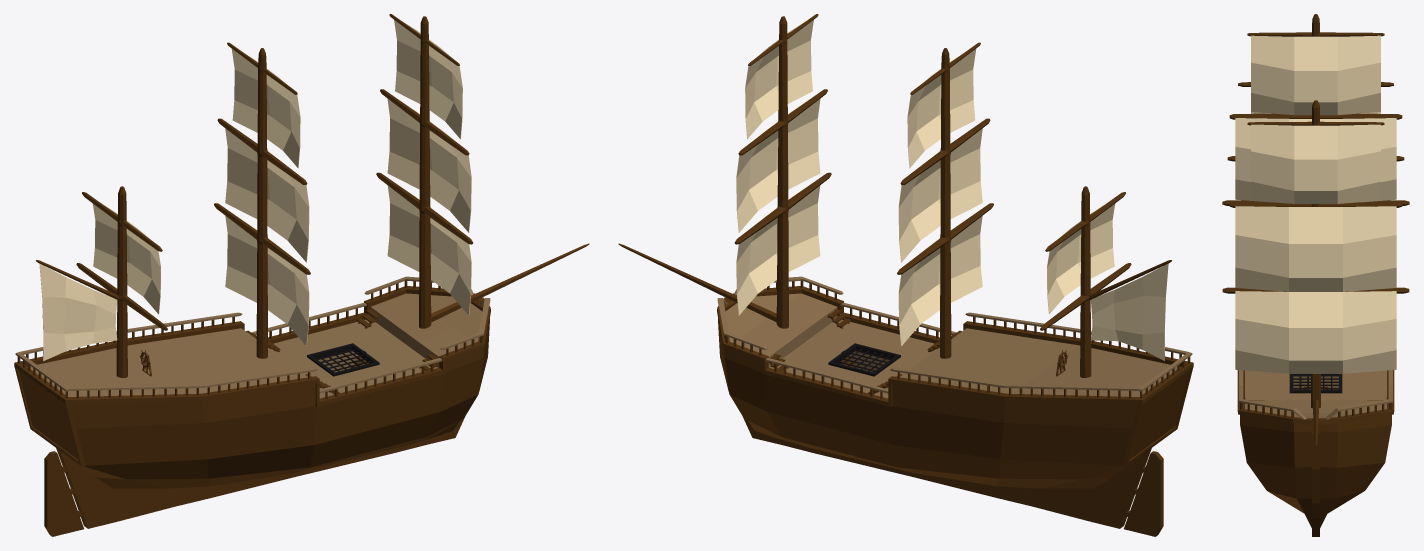
File: English_resized_captains_c.fbx
3 renders of one model, left to right at view 1: azimuth 30°, elevation 25°; view 2: azimuth 150°, elevation 25°; view 3: azimuth 270°, elevation 25°, orthographic.
Parts seen in each view (by area): view 1: Ship body, Gate; view 2: Ship body, Gate; view 3: Ship body, Gate, Storage and cabin.
Part boxes in pixels (box(x1,y1,x2,y2)): Ship body: box(14, 14, 589, 536); Gate: box(307, 343, 379, 376); Ship body: box(618, 14, 1193, 536); Gate: box(828, 343, 900, 376); Ship body: box(1222, 14, 1409, 536); Gate: box(1289, 374, 1342, 393); Storage and cabin: box(1293, 376, 1338, 389).
Bounding box in the file's own units: 1947 × 4951 × 6580.
